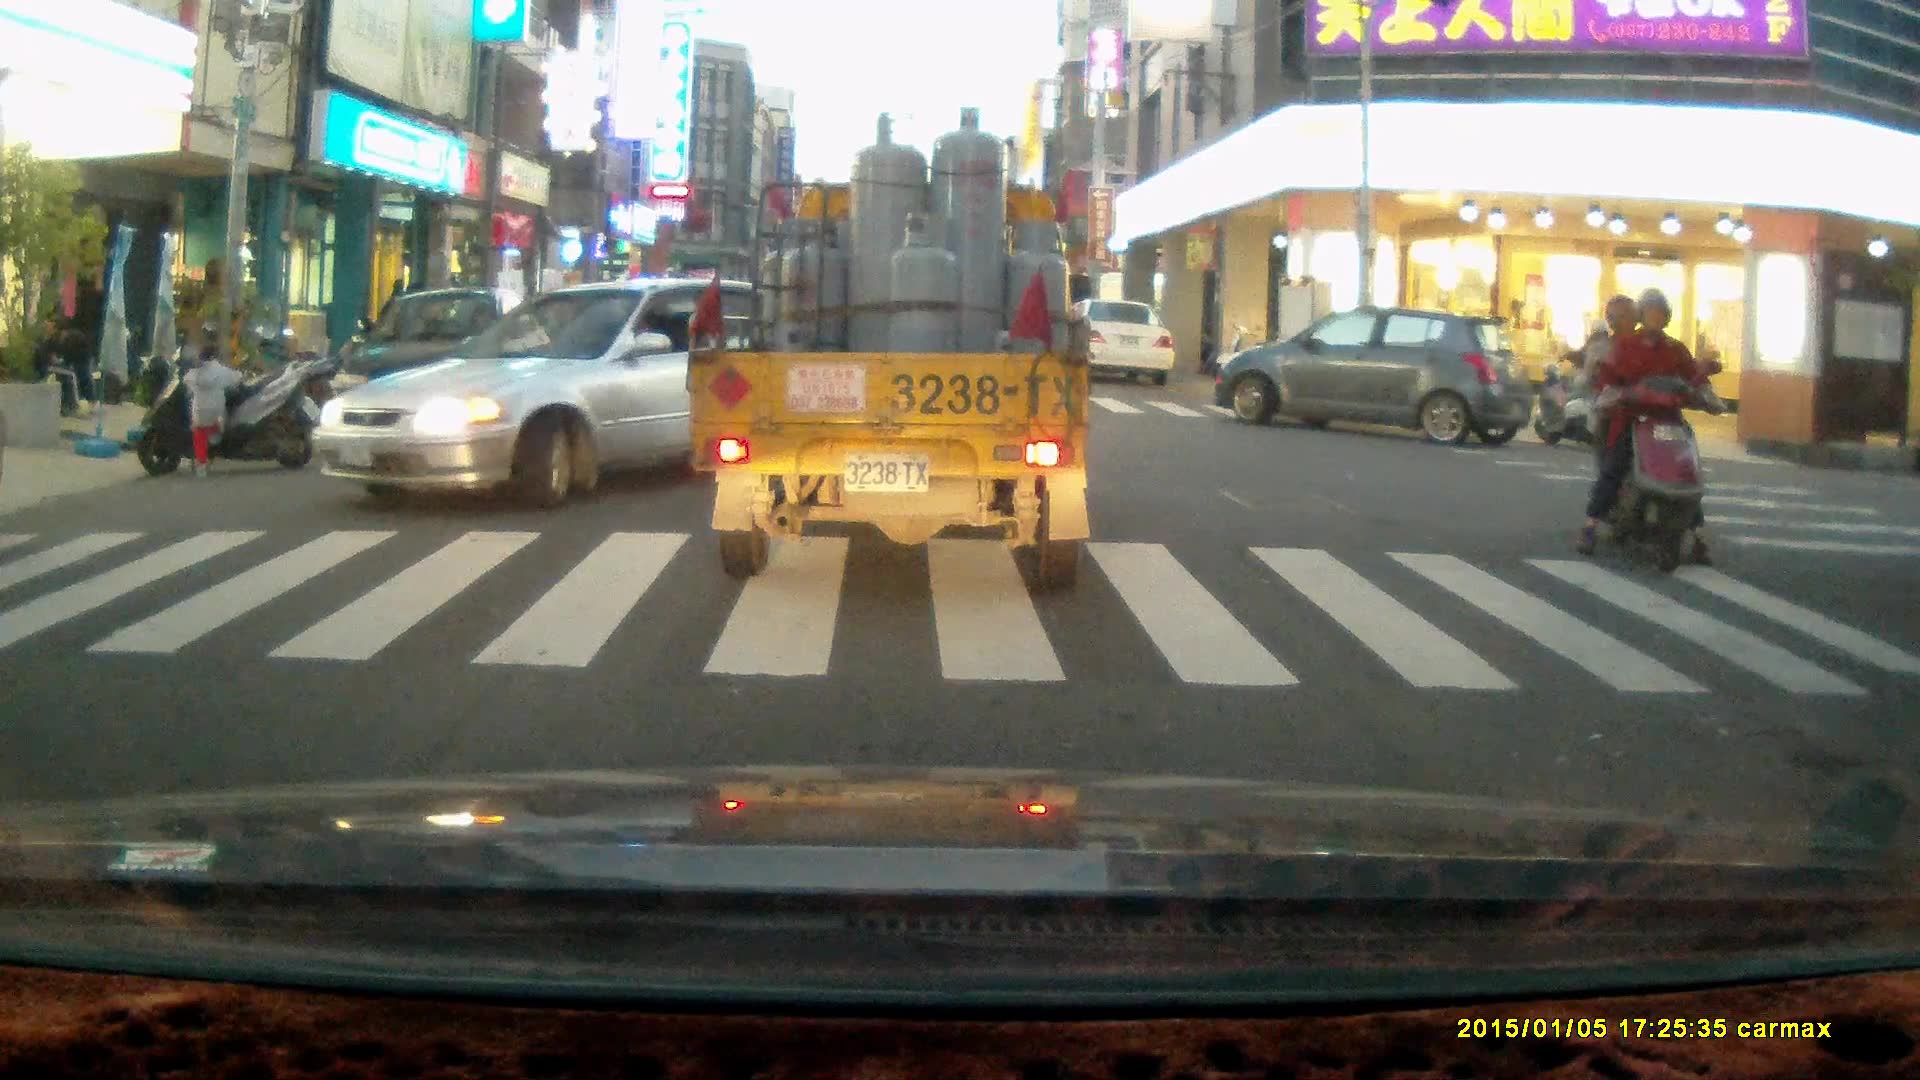pedestrian: (181, 343, 246, 480)
rider: (1571, 287, 1723, 575)
vehicle: (682, 107, 1090, 595), (316, 277, 867, 506), (1213, 308, 1524, 446), (325, 286, 554, 441), (1062, 298, 1179, 382)
